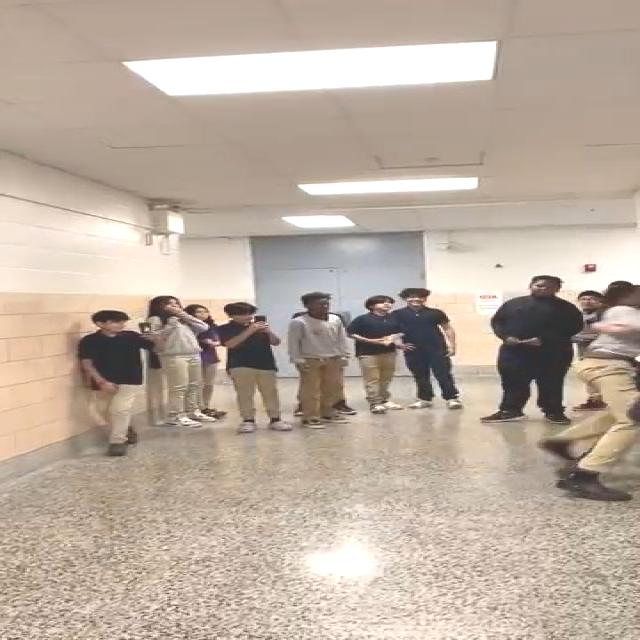fight: (544, 282, 640, 500)
